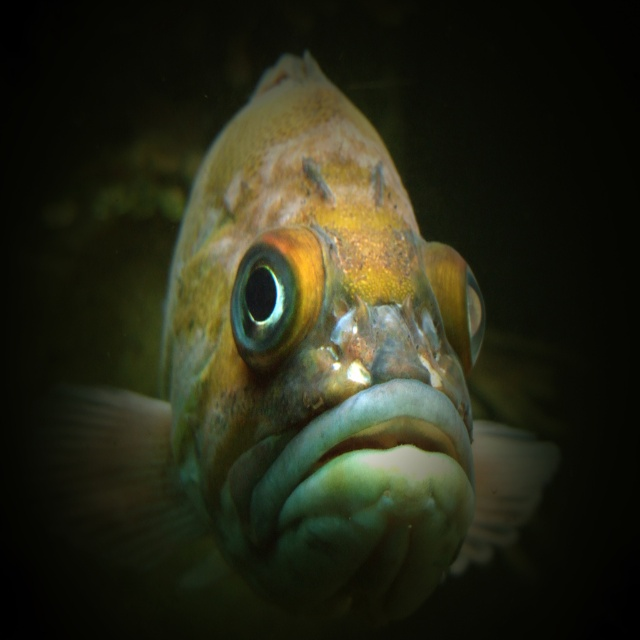Fish: (79, 40, 506, 629)
